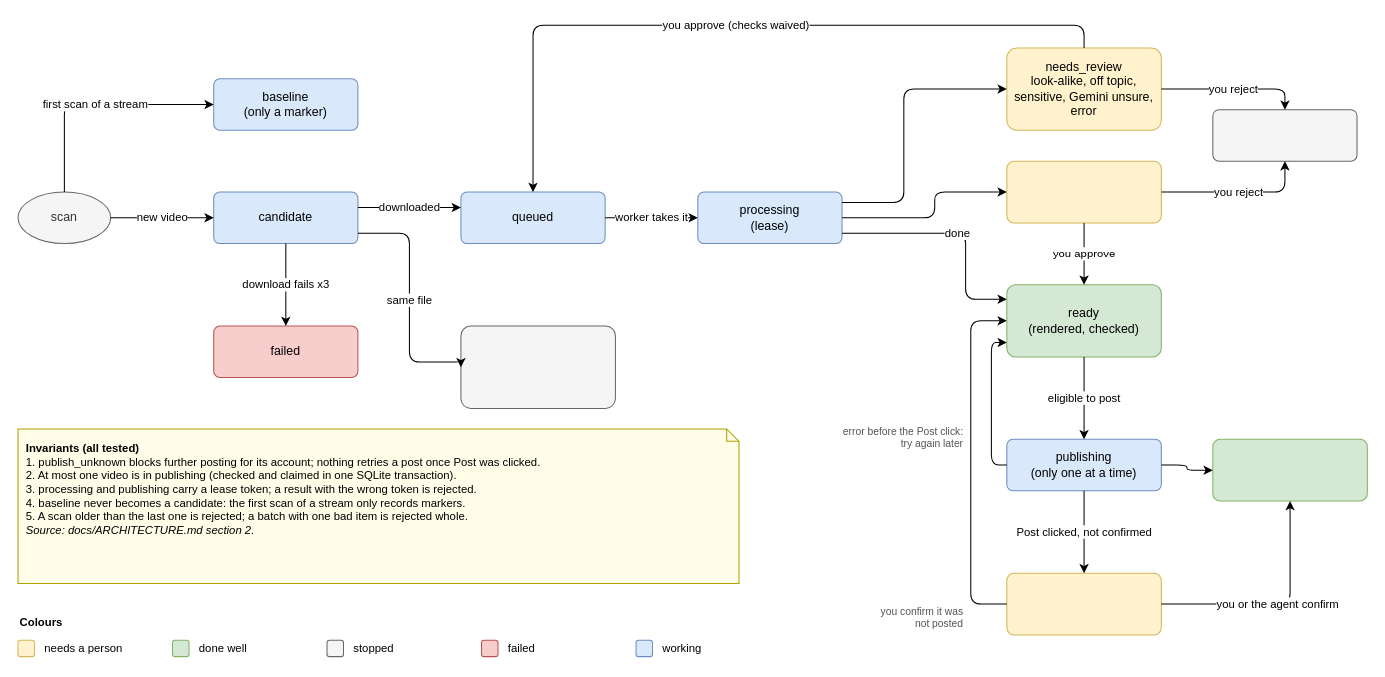
This 1385x677 diagram has some shape labels left out. The shapes that lost their labels are listed below. From the top down, each one's centre as x and y in pixels, then its label:
At [1284,135]: "rejected".
At [1083,191]: "awaiting_approval (manual approval setting is on)".
At [537,366]: "duplicate (same file hash, or same caption already on the account)".
At [1289,469]: "published (confirmed on the public profile)".
At [1083,603]: "publish_unknown (blocks that account)".
